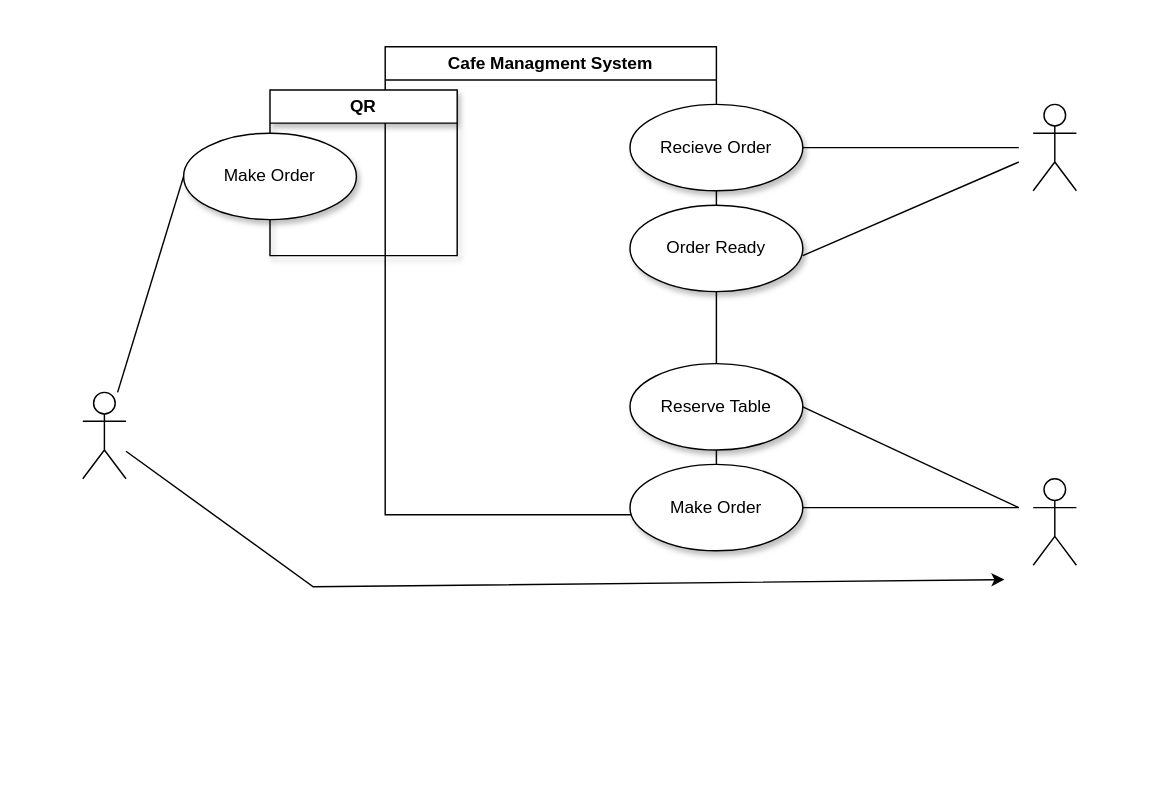
Image size: 1158x812. Some labels were removed from this diagram. The shapes that lost their labels are listed below. From the top down, each one's centre as x and y in pixels, then its label:
At point 1054,147: "Cook".
At point 103,435: "Customer".
At point 1054,521: "Server".
